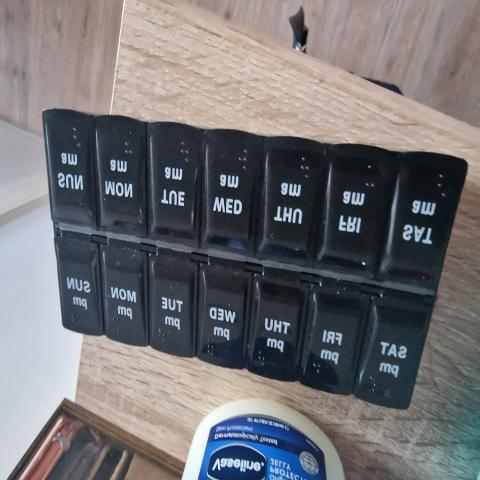Pill-box: (37, 68, 473, 426)
